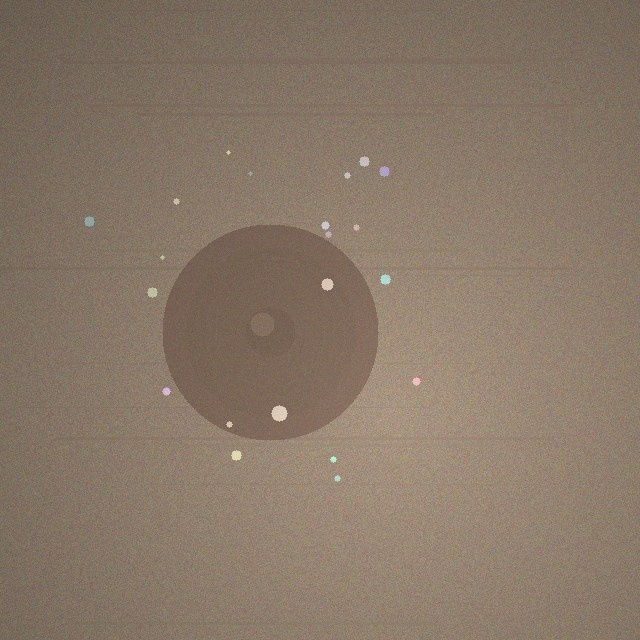overburn: (162, 224, 378, 440)
